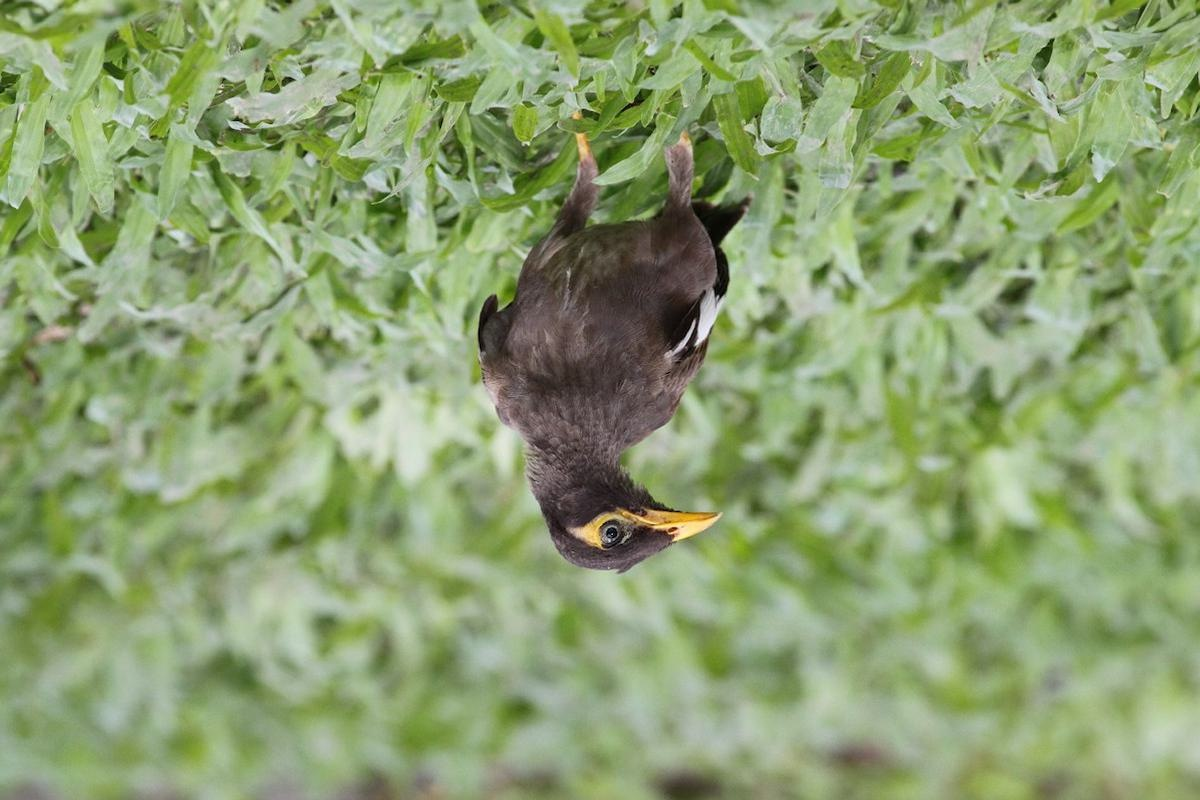myna: (377, 153, 805, 605)
